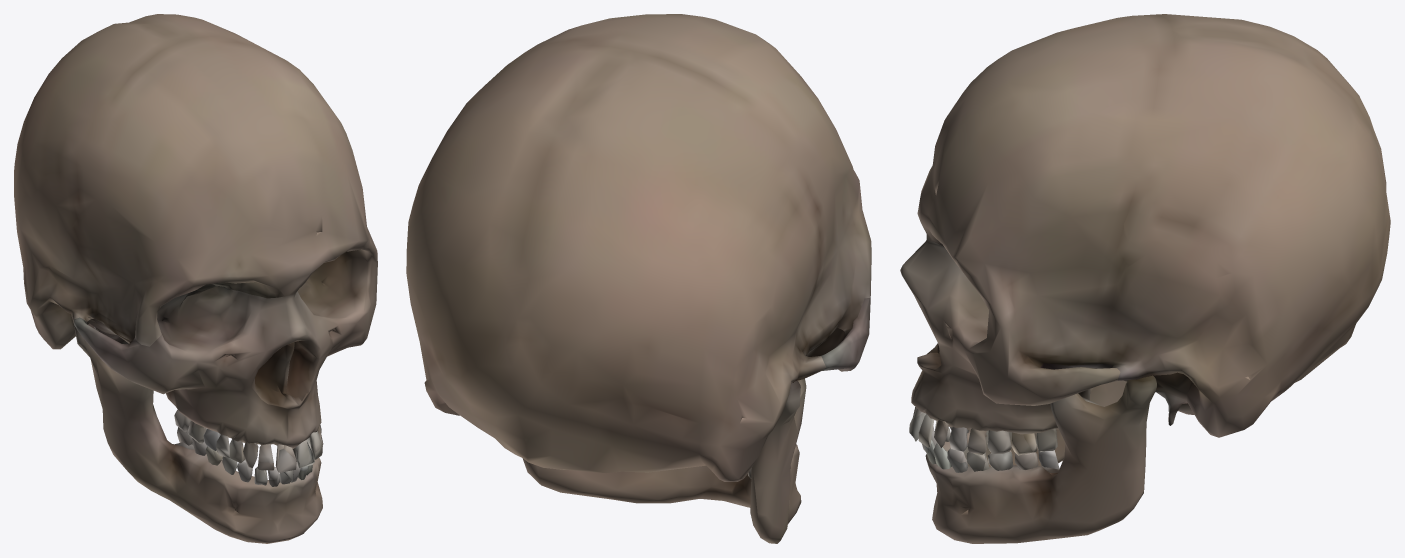
The model's file is skull.glb.
3 views of the same model, side by side, from view 1: azimuth 30°, elevation 25°; view 2: azimuth 150°, elevation 25°; view 3: azimuth 270°, elevation 25° (orthographic). The views are drawn at different scales.
Visible parts, largest first — view 1: Object_2; view 2: Object_2; view 3: Object_2.
Boxes of the visible parts, x1,y1,x2,y2 form: Object_2: [14, 14, 377, 543]; Object_2: [406, 14, 871, 543]; Object_2: [900, 14, 1390, 543].
Bounding box in the file's own units: 1.34 × 2 × 1.79.
1 material, 1 textured.
